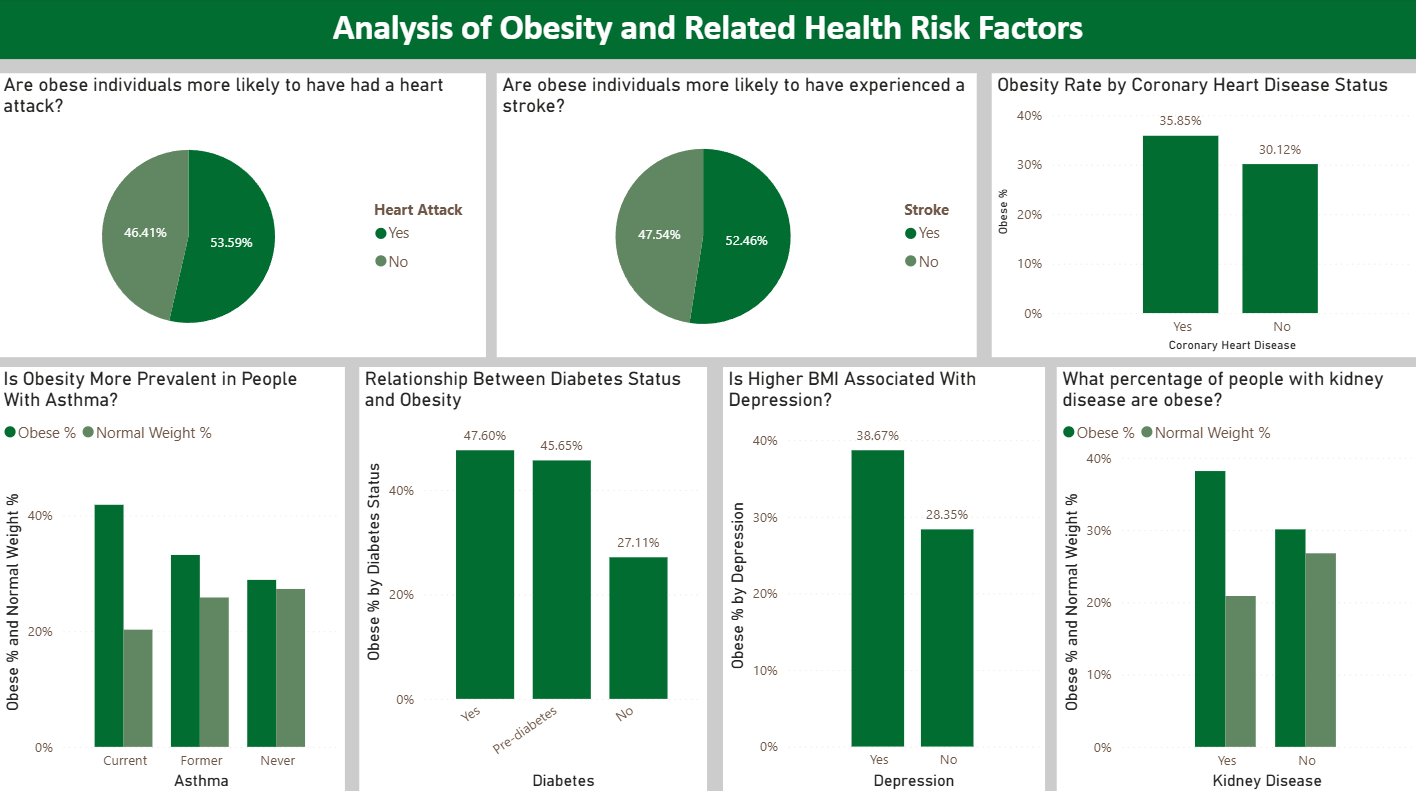

This screenshot's page, from the dashboard's own definition file:
{"tool":"powerbi","page":{"name":"Obesity Analysis pg2","canvas":[1280,720],"ordinal":1},"visuals":[{"type":"clusteredColumnChart","title":"Is Higher BMI Associated With Depression?","fields":{"Category":["health_data brfss_clean.depression"],"Y":["health_data brfss_clean.Obese % by Depression"]},"box":[653.8,333.8,290,386.2],"z":0},{"type":"clusteredColumnChart","title":"Relationship Between Diabetes Status and Obesity","fields":{"Category":["health_data brfss_clean.diabetes"],"Y":["health_data brfss_clean.Obese % by Physical Activity"]},"box":[326.2,333.8,313.8,386.2],"z":2000},{"type":"clusteredColumnChart","title":"\tIs Obesity More Prevalent in People With Asthma?","fields":{"Category":["health_data brfss_clean.asthma"],"Y":["health_data brfss_clean.Obese % by Asthma","health_data brfss_clean.Normal Weight % by Asthma"]},"box":[0,333.8,312.5,386.2],"z":3000},{"type":"pieChart","title":"Are obese individuals more likely to have had a heart attack?","fields":{"Category":["health_data brfss_clean.heart_attack"],"Y":["health_data brfss_clean.Obese % by Depression"]},"box":[0,68.8,440,256.2],"z":4000},{"type":"clusteredColumnChart","title":"What percentage of people with kidney disease are obese?","fields":{"Category":["health_data brfss_clean.kidney_disease"],"Y":["health_data brfss_clean.Obese % by Asthma","health_data brfss_clean.Normal Weight % by Asthma"]},"box":[955,333.8,325,386.2],"z":5000},{"type":"pieChart","title":"Are obese individuals more likely to have experienced a stroke?","fields":{"Category":["health_data brfss_clean.stroke"],"Y":["health_data brfss_clean.Obese % by Depression"]},"box":[450,68.8,432.5,256.2],"z":6000},{"type":"textbox","title":"Analysis of Obesity and Related Health Risk Factors","box":[0,0,1280,56.2],"z":7000},{"type":"slicer","fields":{"Values":["health_data brfss_clean.age_group"]},"box":[1072.5,77.5,207.5,107.5],"z":8000},{"type":"clusteredColumnChart","title":"Obesity Rate by Coronary Heart Disease Status","fields":{"Category":["health_data brfss_clean.coronary_heart_disease"],"Y":["health_data brfss_clean.Obese % by Asthma"]},"box":[896.2,68.8,383.8,256.2],"z":8500}]}

Visuals, with their boxes in screenshot pixels (x1, y1, x2, y2), scaled from the page's 1280x720 canvas onto the 1416x791 screenshot:
"Is Higher BMI Associated With Depression?" clusteredColumnChart: <box>723,367,1044,790</box>
"Relationship Between Diabetes Status and Obesity" clusteredColumnChart: <box>361,367,708,790</box>
"	Is Obesity More Prevalent in People With Asthma?" clusteredColumnChart: <box>0,367,346,790</box>
"Are obese individuals more likely to have had a heart attack?" pieChart: <box>0,76,487,357</box>
"What percentage of people with kidney disease are obese?" clusteredColumnChart: <box>1056,367,1415,790</box>
"Are obese individuals more likely to have experienced a stroke?" pieChart: <box>498,76,976,357</box>
"Analysis of Obesity and Related Health Risk Factors" textbox: <box>0,0,1415,62</box>
slicer - health_data brfss_clean.age_group: <box>1186,85,1415,203</box>
"Obesity Rate by Coronary Heart Disease Status" clusteredColumnChart: <box>991,76,1415,357</box>
